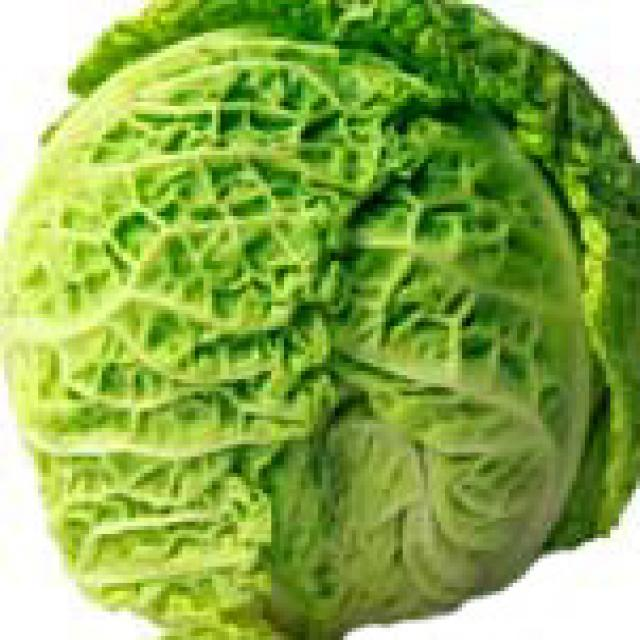Cabbage head: (0, 20, 640, 640)
